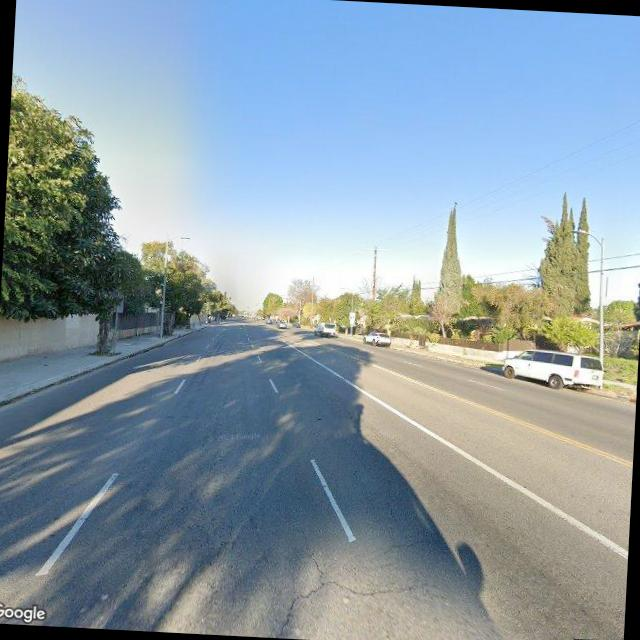crack: (255, 530, 414, 640)
